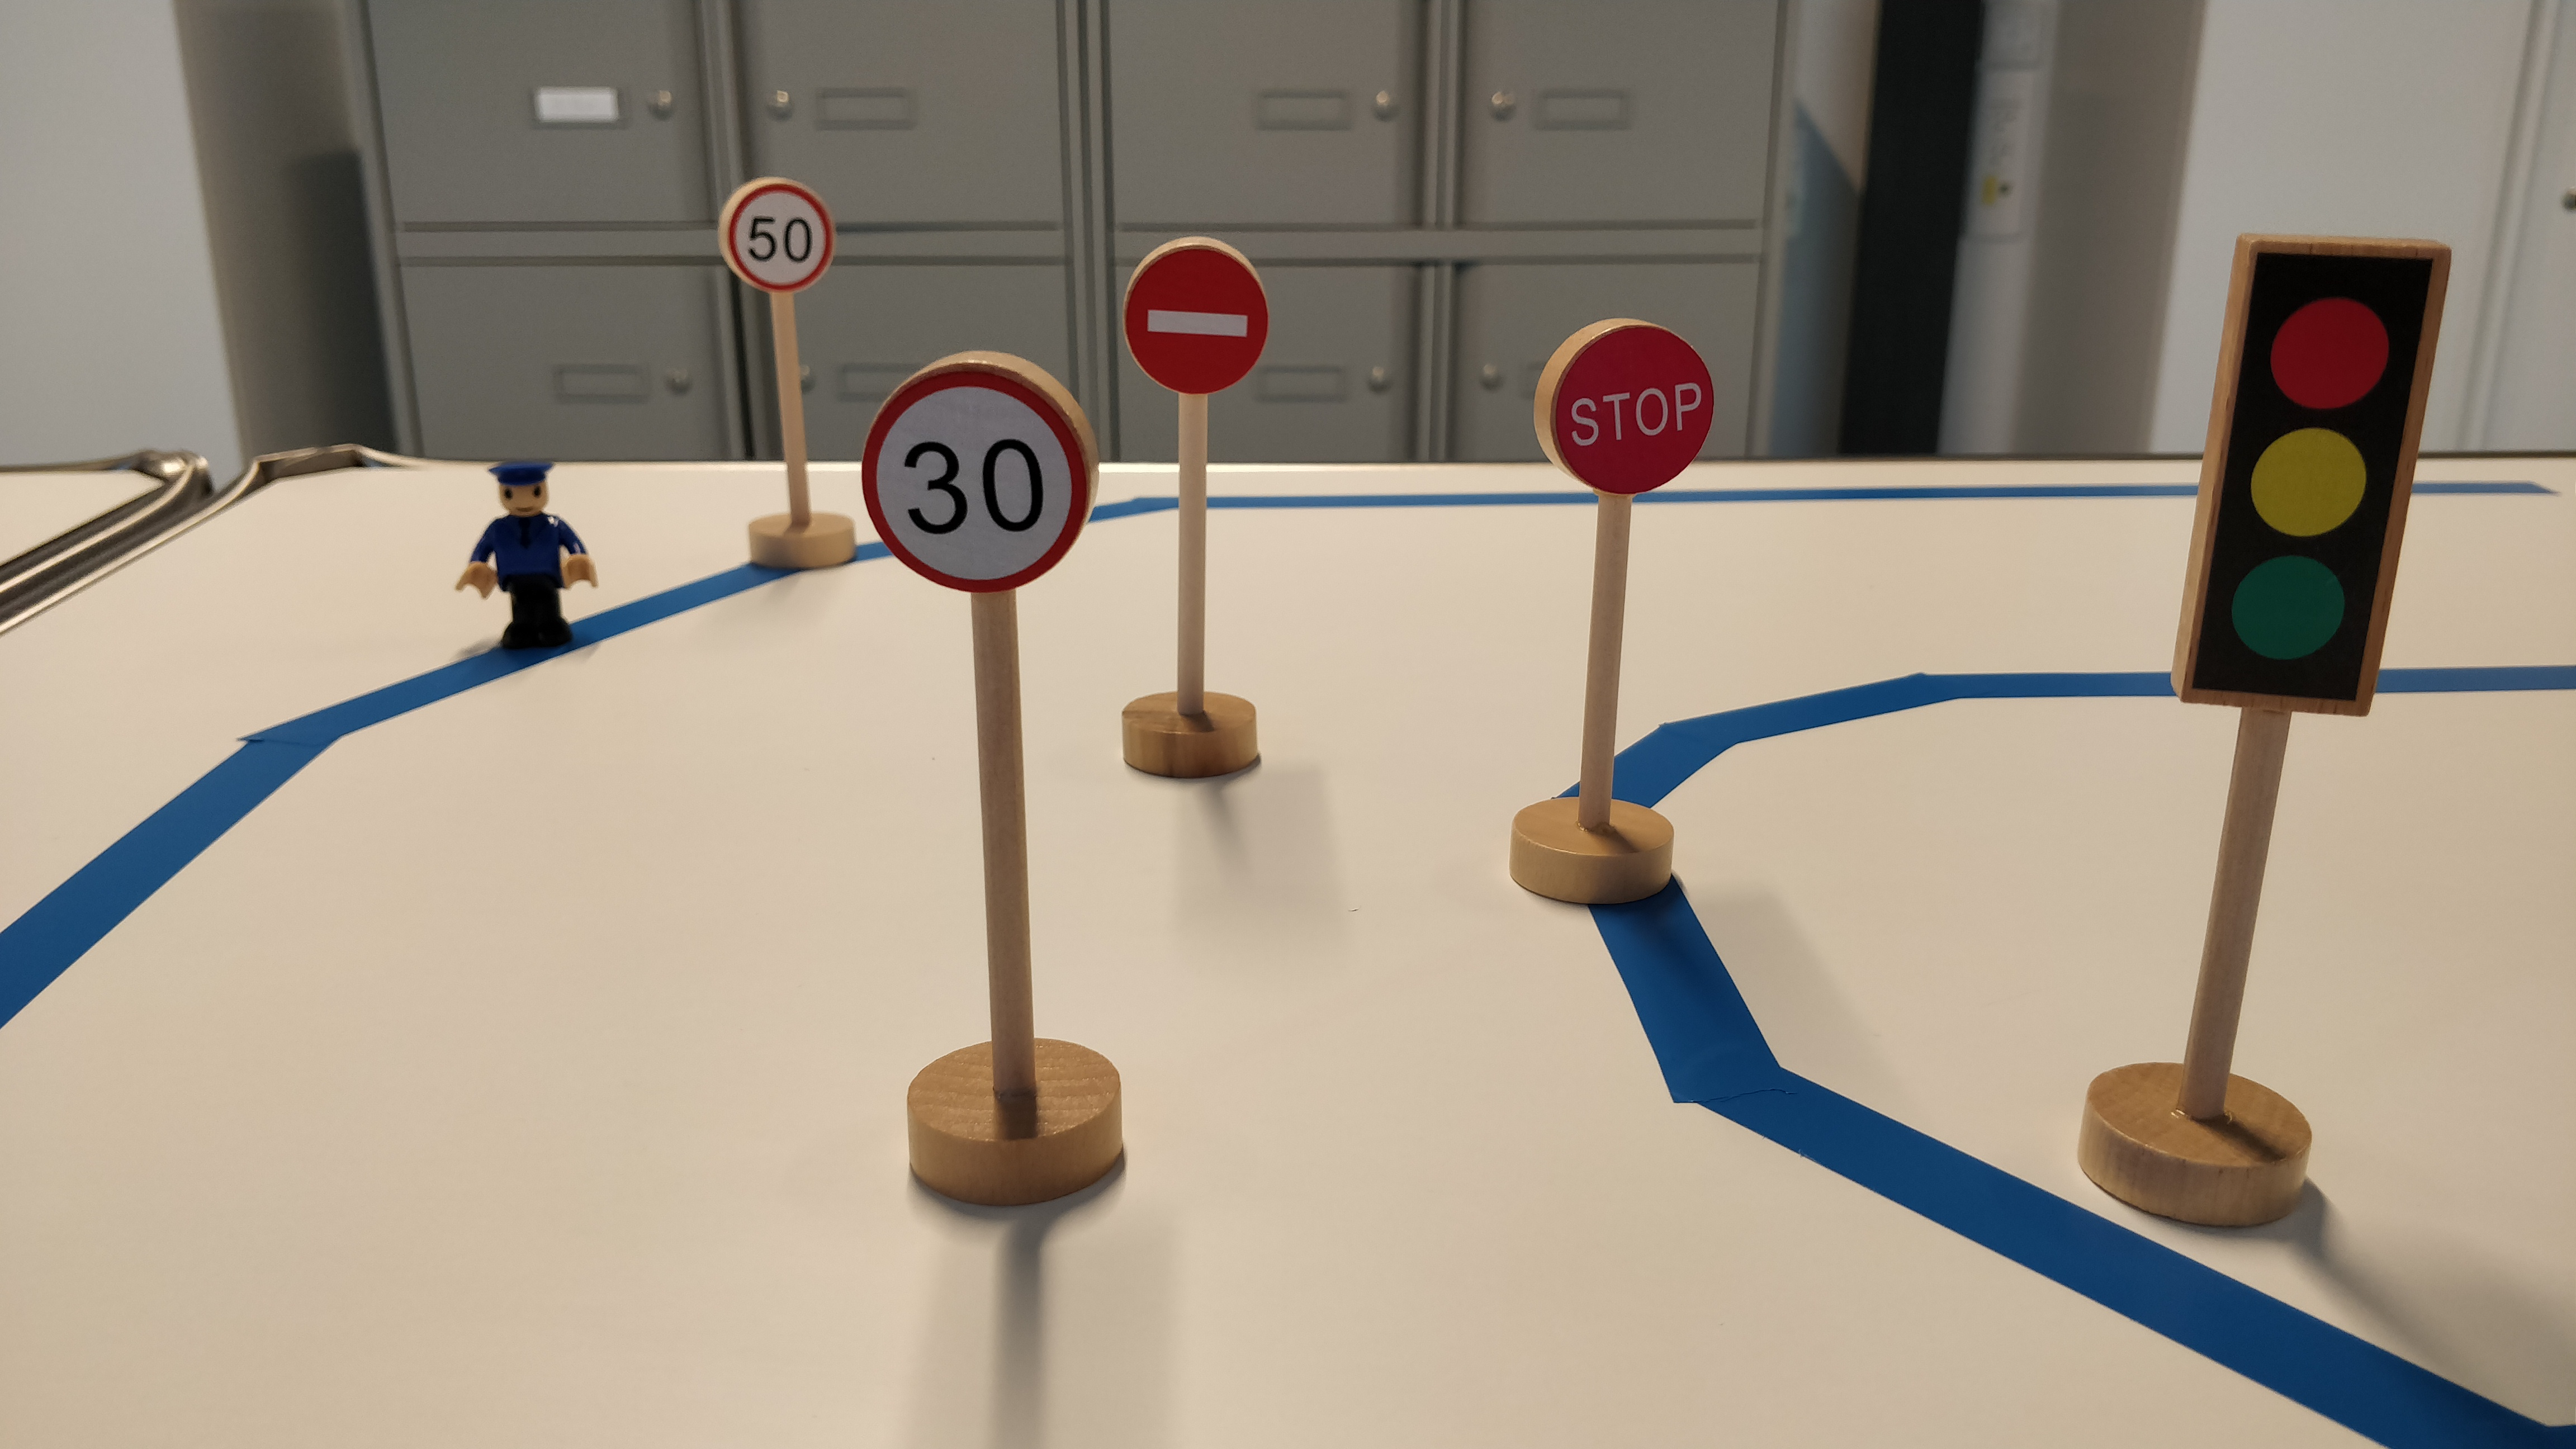Person: (454, 454, 604, 661)
Prohibition Sign: (1111, 232, 1272, 401)
Speed Limit 30: (858, 346, 1105, 597)
Speed Limit 50: (713, 175, 834, 300)
Stop Sign: (1526, 314, 1722, 499)
Traffic Light: (2167, 231, 2461, 719)
